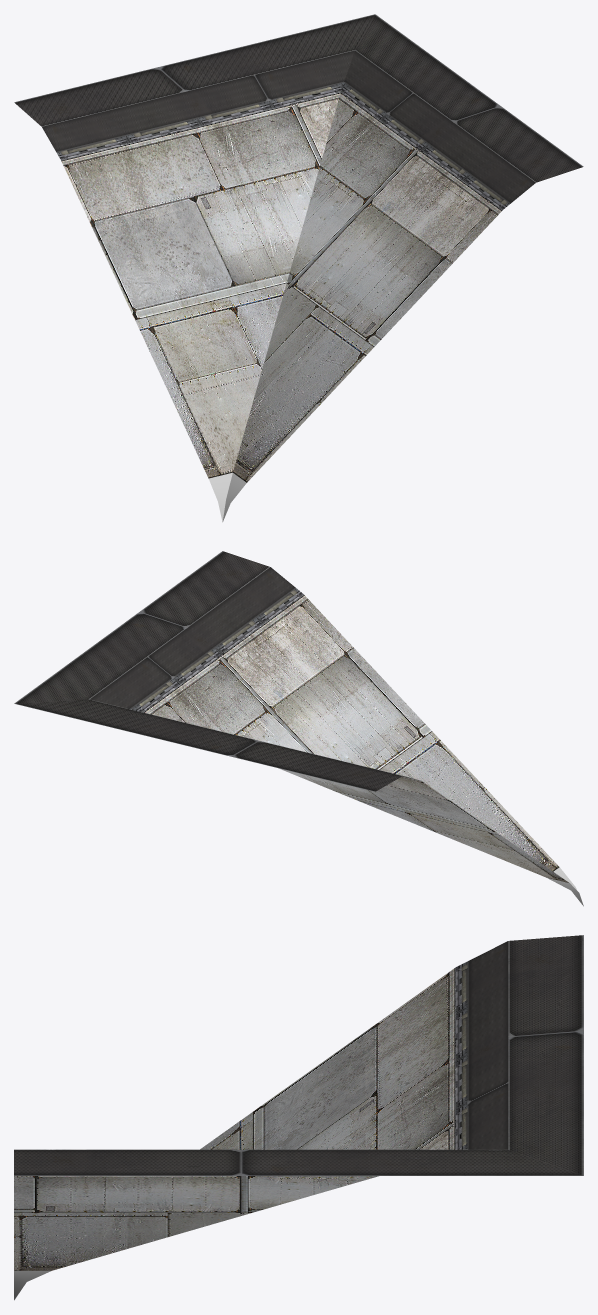
File: Roof_A_Big4mts11.fbx
3 views of the same model, one above another, from view 1: azimuth 30°, elevation 25°; view 2: azimuth 150°, elevation 25°; view 3: azimuth 270°, elevation 25° (orthographic). The views are drawn at different scales.
Visible parts, largest first — view 1: Roof_A_Big4mts11; view 2: Roof_A_Big4mts11; view 3: Roof_A_Big4mts11.
Part boxes in pixels (x1,y1,x2,y2): Roof_A_Big4mts11: (14,14,583,522); Roof_A_Big4mts11: (14,551,583,906); Roof_A_Big4mts11: (14,935,583,1300).
Bounding box in the file's own units: 500 × 354 × 500.
